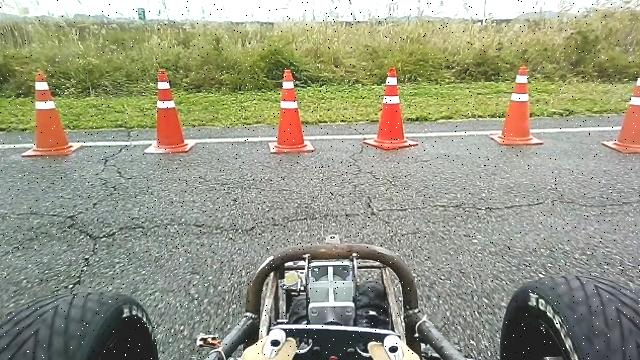red cone: (21, 72, 78, 160), (362, 66, 419, 150), (143, 68, 195, 154), (489, 65, 543, 146), (267, 68, 315, 153)
